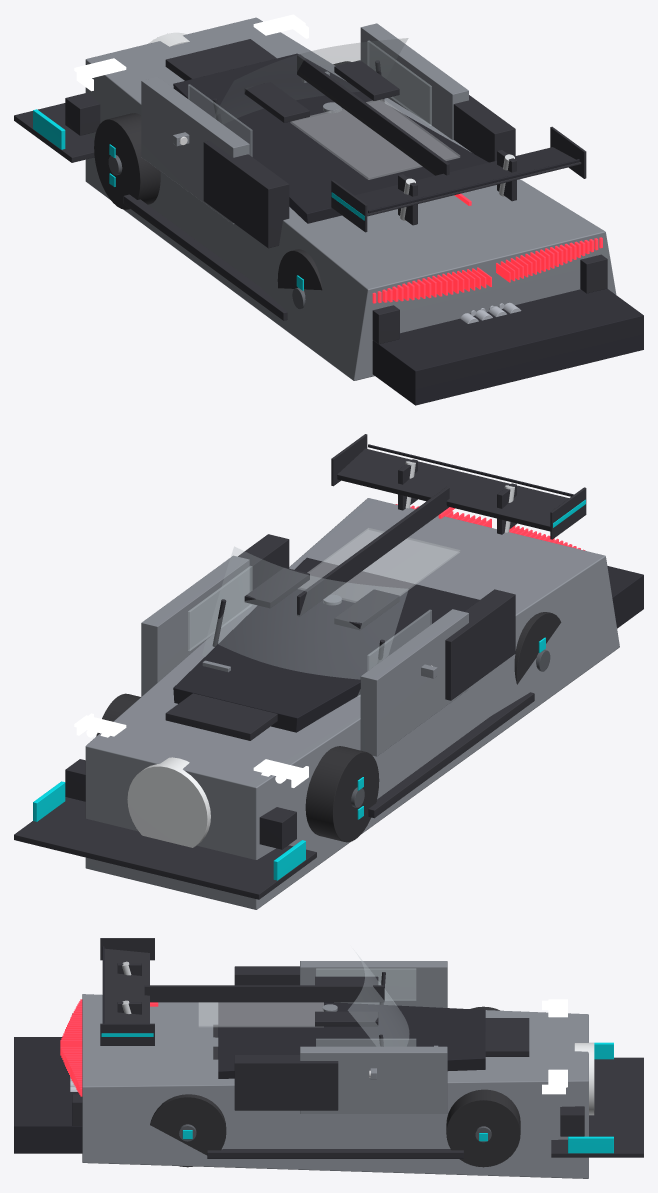
Rendered from bugatti_divo_complete.glb.
The picture shows the model from 3 angles, top to bottom: view 1: azimuth 30°, elevation 25°; view 2: azimuth 150°, elevation 25°; view 3: azimuth 270°, elevation 25°; orthographic projection. The views are drawn at different scales.
Visible parts, largest first — view 1: BODY_Divo_Hypercar_Shell, CHASSIS_Carbon_Monocoque_Tub, AERO_Rear_Venturi_Diffuser_Assembly, BODY_Butterfly_Door_Panel_R, BODY_Side_Intercooler_Air_Scoop_R, GLASS_W16_Engine_Cover_Showcase, BODY_Butterfly_Door_Panel_L, GLASS_Hypercar_Windshield, WHEEL_Tire_Front_FR, AERO_Active_Rear_Wing_MainPlane, AERO_Bugatti_Atlantic_Center_Dorsal_Fin, BODY_Side_Intercooler_Air_Scoop_L (+17 smaller); view 2: BODY_Divo_Hypercar_Shell, CHASSIS_Carbon_Monocoque_Tub, GLASS_Hypercar_Windshield, AERO_Front_Carbon_Splitter_Tray, BODY_Butterfly_Door_Panel_R, AERO_Active_Rear_Wing_MainPlane, BODY_Butterfly_Door_Panel_L, BODY_Bugatti_Horseshoe_Grille_Bezel, WHEEL_Tire_Front_FR, BODY_Side_Intercooler_Air_Scoop_R, GLASS_W16_Engine_Cover_Showcase, AERO_Bugatti_Atlantic_Center_Dorsal_Fin (+16 smaller); view 3: BODY_Divo_Hypercar_Shell, CHASSIS_Carbon_Monocoque_Tub, BODY_Butterfly_Door_Panel_L, AERO_Rear_Venturi_Diffuser_Assembly, BODY_Side_Intercooler_Air_Scoop_L, AERO_Front_Carbon_Splitter_Tray, BODY_Butterfly_Door_Panel_R, WHEEL_Tire_Front_FL, AERO_Bugatti_Atlantic_Center_Dorsal_Fin, GLASS_W16_Engine_Cover_Showcase, WHEEL_Tire_Rear_RL, AERO_Active_Rear_Wing_MainPlane (+16 smaller).
Boxes of the visible parts, box(x1,y1,x2,y2) form: BODY_Divo_Hypercar_Shell: box(85, 17, 616, 380); CHASSIS_Carbon_Monocoque_Tub: box(173, 53, 488, 223); AERO_Rear_Venturi_Diffuser_Assembly: box(372, 288, 643, 405); BODY_Butterfly_Door_Panel_R: box(141, 77, 249, 224); BODY_Side_Intercooler_Air_Scoop_R: box(203, 140, 289, 248); GLASS_W16_Engine_Cover_Showcase: box(290, 99, 459, 179); BODY_Butterfly_Door_Panel_L: box(360, 23, 468, 139); GLASS_Hypercar_Windshield: box(220, 38, 408, 117); WHEEL_Tire_Front_FR: box(94, 113, 160, 209); AERO_Active_Rear_Wing_MainPlane: box(355, 147, 581, 216); AERO_Bugatti_Atlantic_Center_Dorsal_Fin: box(297, 54, 449, 175); BODY_Side_Intercooler_Air_Scoop_L: box(453, 95, 515, 162); BODY_Divo_Hypercar_Shell: box(85, 498, 619, 909); CHASSIS_Carbon_Monocoque_Tub: box(173, 557, 479, 732); GLASS_Hypercar_Windshield: box(202, 546, 408, 696); AERO_Front_Carbon_Splitter_Tray: box(14, 797, 316, 899); BODY_Butterfly_Door_Panel_R: box(360, 609, 468, 756); AERO_Active_Rear_Wing_MainPlane: box(337, 448, 568, 531); BODY_Butterfly_Door_Panel_L: box(141, 555, 249, 696); BODY_Bugatti_Horseshoe_Grille_Bezel: box(127, 757, 210, 847); WHEEL_Tire_Front_FR: box(305, 746, 379, 842); BODY_Side_Intercooler_Air_Scoop_R: box(445, 589, 515, 700); GLASS_W16_Engine_Cover_Showcase: box(298, 528, 459, 602); AERO_Bugatti_Atlantic_Center_Dorsal_Fin: box(297, 486, 449, 616); BODY_Divo_Hypercar_Shell: box(82, 994, 588, 1178); CHASSIS_Carbon_Monocoque_Tub: box(218, 1002, 485, 1078); BODY_Butterfly_Door_Panel_L: box(300, 1046, 447, 1113); AERO_Rear_Venturi_Diffuser_Assembly: box(14, 1037, 82, 1153); BODY_Side_Intercooler_Air_Scoop_L: box(234, 1055, 338, 1110); AERO_Front_Carbon_Splitter_Tray: box(551, 1057, 643, 1157); BODY_Butterfly_Door_Panel_R: box(300, 961, 447, 1007); WHEEL_Tire_Front_FL: box(446, 1089, 520, 1167); AERO_Bugatti_Atlantic_Center_Dorsal_Fin: box(144, 985, 384, 1002); GLASS_W16_Engine_Cover_Showcase: box(199, 1002, 323, 1026); WHEEL_Tire_Rear_RL: box(150, 1094, 226, 1167); AERO_Active_Rear_Wing_MainPlane: box(104, 948, 149, 1023).
Size of the model in its own units: 2.26 by 1.71 by 5.77.
